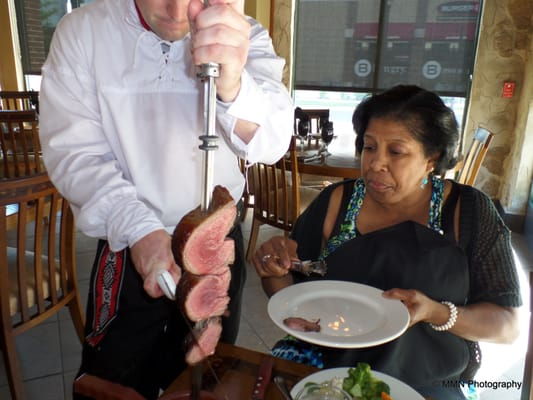curry: (341, 362, 394, 400)
